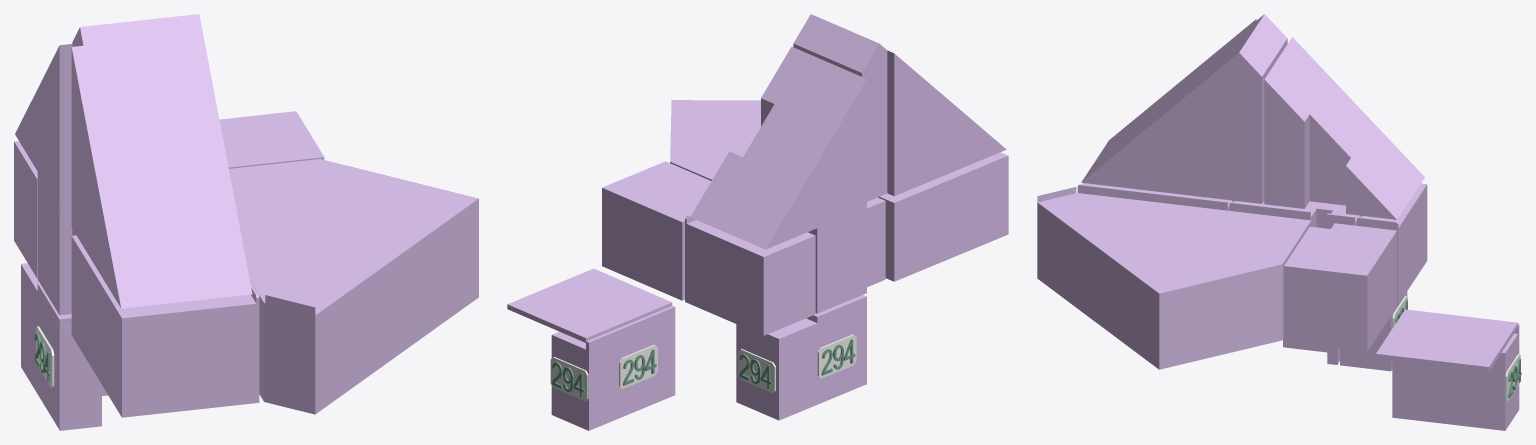
3 views of the same model, side by side, from view 1: azimuth 30°, elevation 25°; view 2: azimuth 150°, elevation 25°; view 3: azimuth 270°, elevation 25° (orthographic). The views are drawn at different scales.
Visible parts, largest first — view 1: g_5, g_2, g_6, g_12, g_4, g_10, g_11, g_9, g_0, g_3, g_29; view 2: g_2, g_3, g_9, g_6, g_10, g_1, g_4, g_13, g_5, g_0, g_12, g_11 (+5 smaller); view 3: g_5, g_2, g_3, g_10, g_1, g_13, g_9, g_7, g_6, g_4, g_0, g_12.
Boxes of the visible parts, left/top/right/bottom form: g_5: left=229, top=159, right=478, bottom=414; g_2: left=71, top=14, right=252, bottom=308; g_6: left=71, top=235, right=259, bottom=417; g_12: left=32, top=282, right=108, bottom=430; g_4: left=37, top=44, right=72, bottom=207; g_10: left=219, top=111, right=324, bottom=168; g_11: left=37, top=172, right=72, bottom=315; g_9: left=14, top=141, right=37, bottom=278; g_0: left=21, top=263, right=39, bottom=385; g_3: left=15, top=89, right=37, bottom=170; g_29: left=35, top=326, right=54, bottom=388; g_2: left=793, top=14, right=1006, bottom=201; g_3: left=686, top=46, right=839, bottom=249; g_9: left=685, top=214, right=815, bottom=335; g_6: left=878, top=152, right=1008, bottom=281; g_10: left=602, top=161, right=711, bottom=300; g_1: left=551, top=306, right=675, bottom=430; g_4: left=792, top=67, right=866, bottom=228; g_13: left=507, top=268, right=672, bottom=342; g_5: left=670, top=100, right=760, bottom=180; g_0: left=736, top=323, right=805, bottom=420; g_12: left=795, top=295, right=866, bottom=409; g_11: left=808, top=208, right=866, bottom=313; g_5: left=1037, top=187, right=1311, bottom=369; g_2: left=1081, top=14, right=1287, bottom=203; g_3: left=1264, top=52, right=1424, bottom=222; g_10: left=1284, top=223, right=1396, bottom=351; g_1: left=1392, top=324, right=1519, bottom=430; g_13: left=1376, top=309, right=1518, bottom=371; g_9: left=1357, top=183, right=1427, bottom=304; g_7: left=1229, top=201, right=1361, bottom=228; g_6: left=1077, top=183, right=1234, bottom=210; g_4: left=1282, top=37, right=1356, bottom=119; g_0: left=1340, top=291, right=1407, bottom=371; g_12: left=1283, top=339, right=1339, bottom=364.
Bounding box in the file's own units: 9.92 × 10.1 × 13.83.
